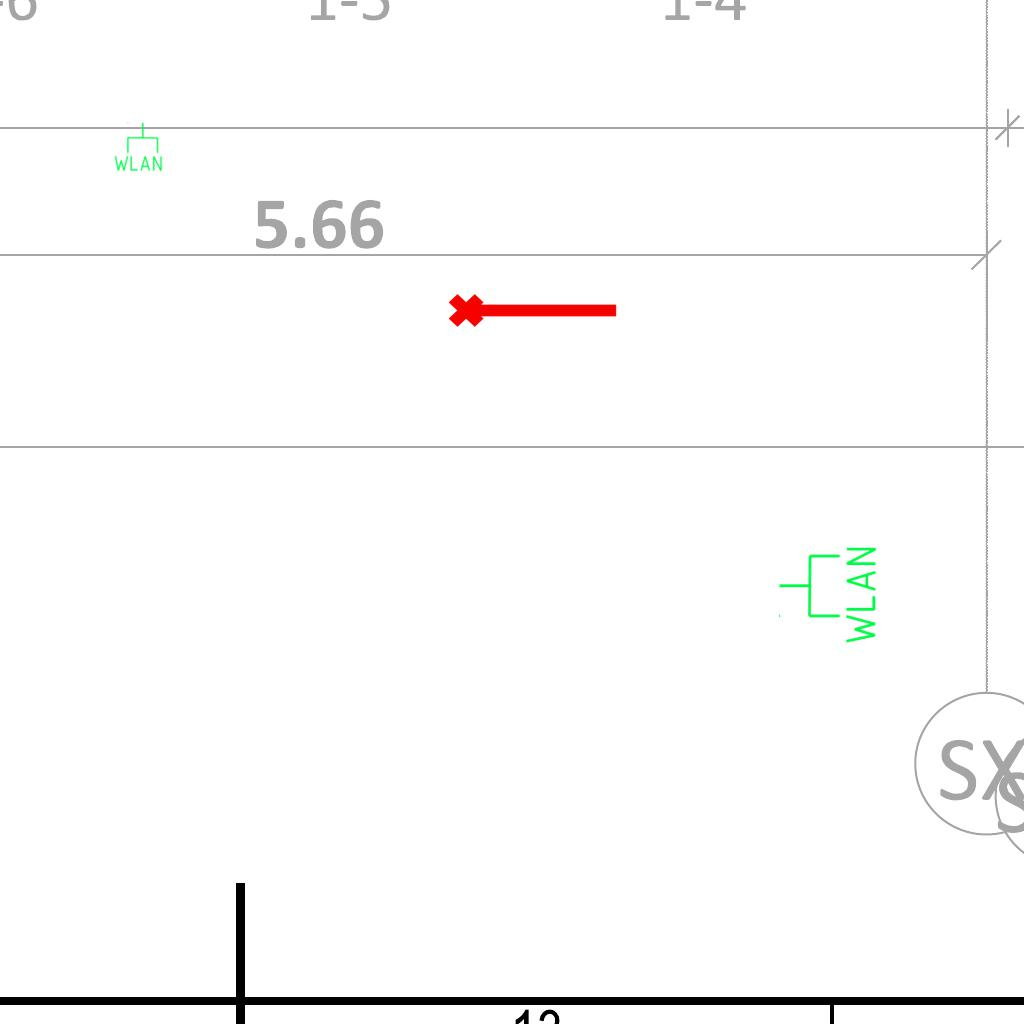ASR_Ansaugoeffnung: (446, 285, 622, 331)
WLAN: (776, 543, 880, 648), (112, 121, 164, 173)
